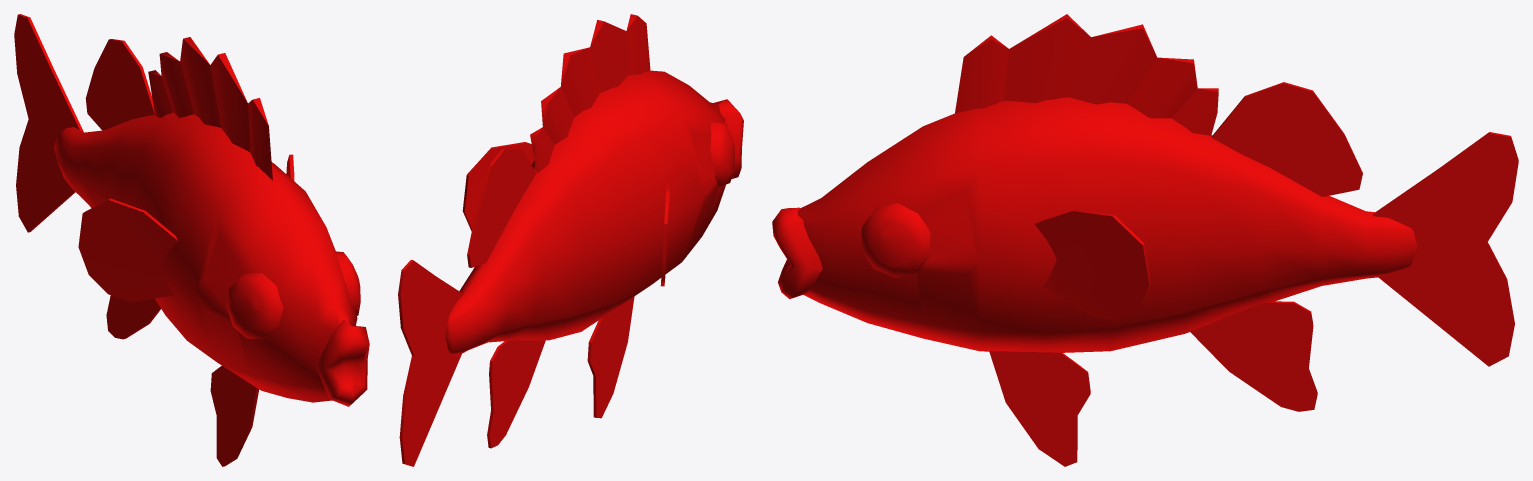
The picture shows the model from 3 angles, left to right: view 1: azimuth 30°, elevation 25°; view 2: azimuth 150°, elevation 25°; view 3: azimuth 270°, elevation 25°; orthographic projection. The views are drawn at different scales.
Parts seen in each view (by area): view 1: Fish_CanaryRockfish; view 2: Fish_CanaryRockfish; view 3: Fish_CanaryRockfish.
Boxes of the visible parts, x1=… form: Fish_CanaryRockfish: x1=14, y1=14, x2=369, y2=466; Fish_CanaryRockfish: x1=398, y1=14, x2=743, y2=466; Fish_CanaryRockfish: x1=772, y1=14, x2=1518, y2=466.
Size of the model in its own units: 0.1462 by 0.2737 by 0.412.
